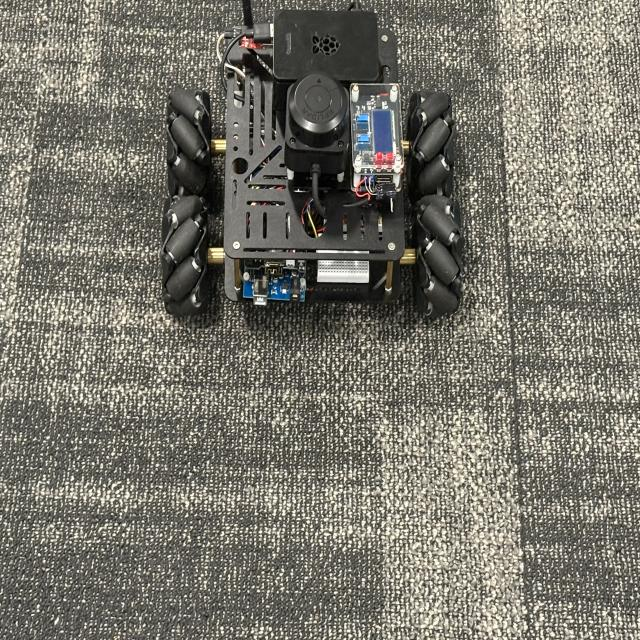ArduinoCar3: (164, 5, 466, 324)
